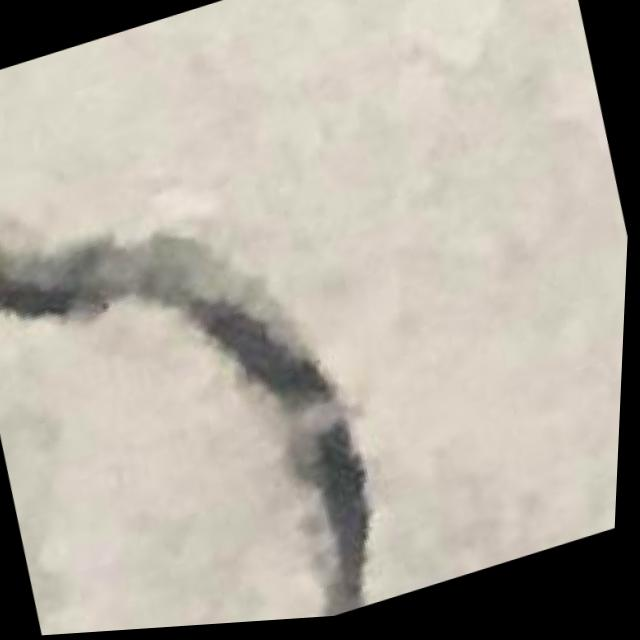Crack: (0, 115, 437, 640)
